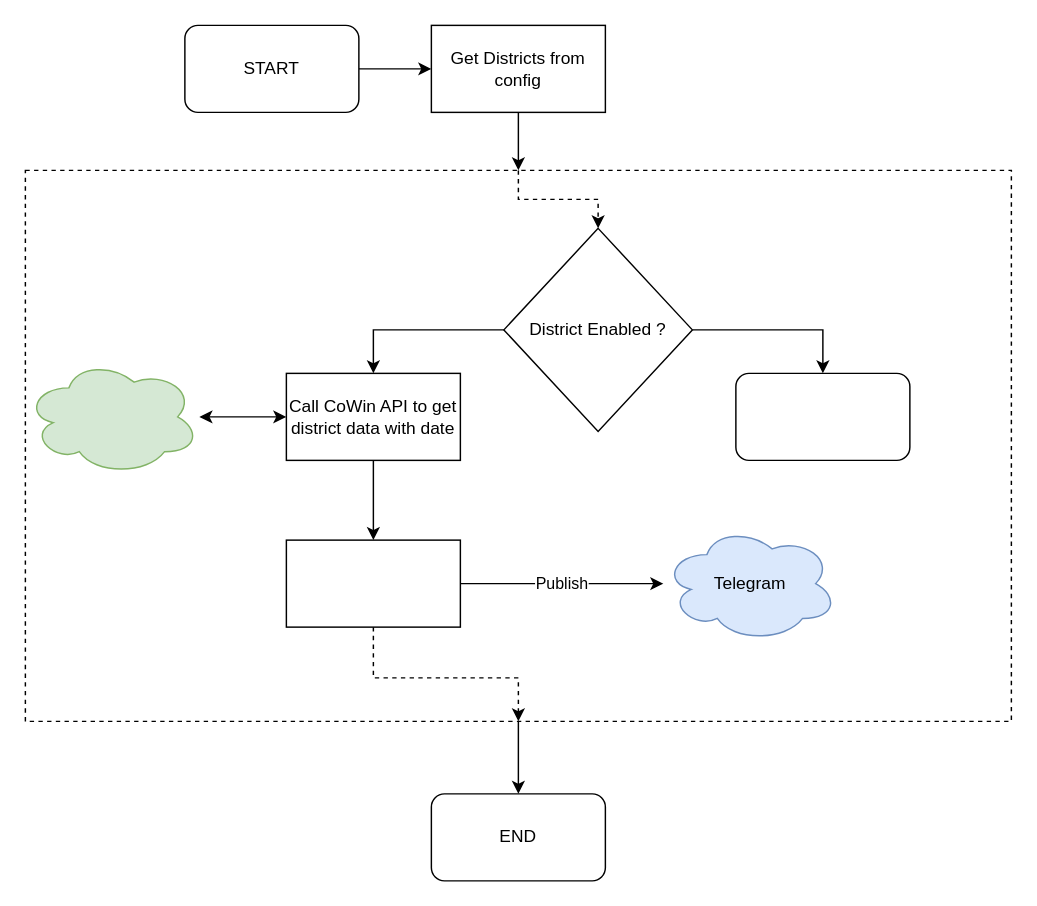
Some shapes in this 1037 by 906 pixel diagram are drawn without their labels. Each missing label, with the centre of its shape:
CoWin API: the point at 111,416
Ignore District: the point at 822,416
Parse response & generate Telegram message payload: the point at 372,583
